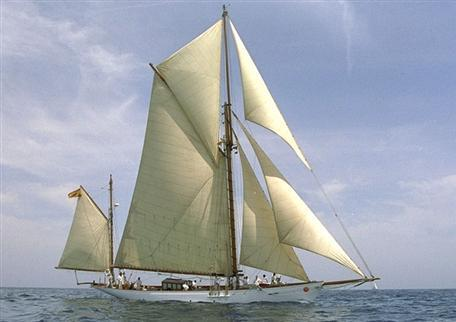Ship: (57, 6, 381, 305)
